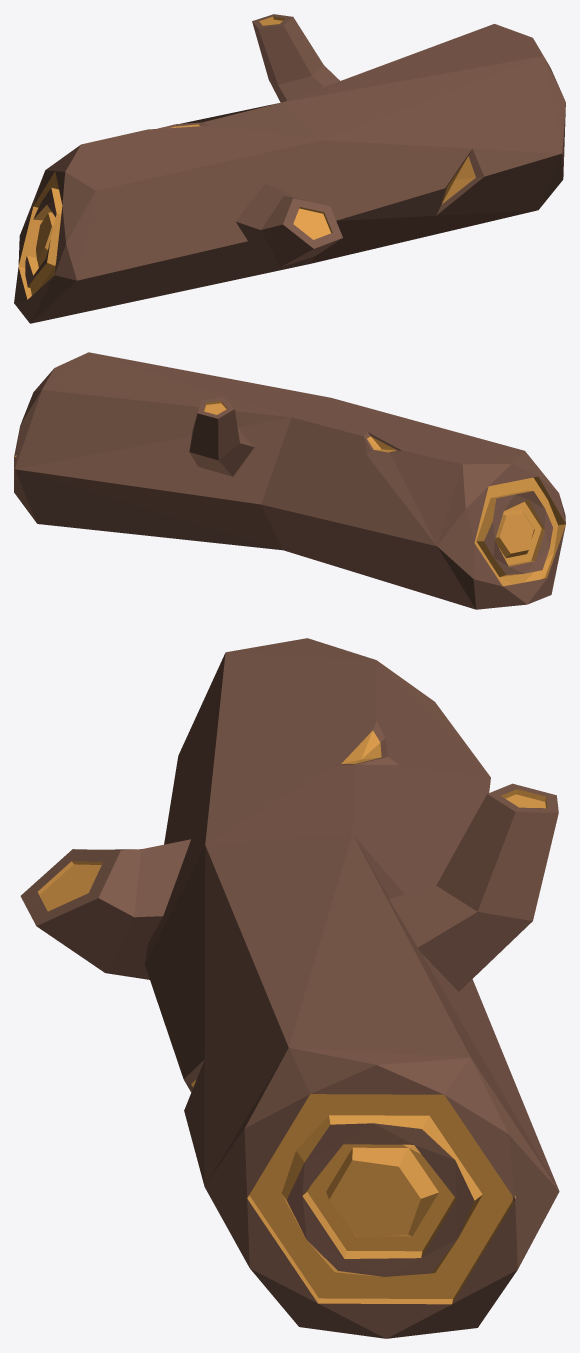
Rendered from log.glb.
3 renders of one model, top to bottom at view 1: azimuth 30°, elevation 25°; view 2: azimuth 150°, elevation 25°; view 3: azimuth 270°, elevation 25°, orthographic. The views are drawn at different scales.
Visible parts, largest first — view 1: group1305922676; view 2: group1305922676; view 3: group1305922676.
Part boxes in pixels (<box>): group1305922676: <box>14,14,565,323</box>; group1305922676: <box>14,352,565,609</box>; group1305922676: <box>20,638,559,1338</box>.
Size of the model in its own units: 2.7 by 0.9498 by 1.31.
